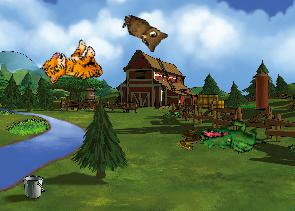crocodile: (198, 111, 266, 164)
owl: (116, 13, 169, 55)
tiger: (38, 33, 108, 100)
